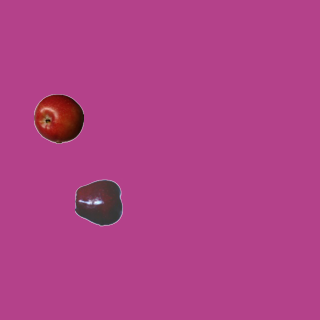Apple Braeburn: (33, 93, 83, 143)
Apple Red Delicious: (74, 177, 124, 227)
